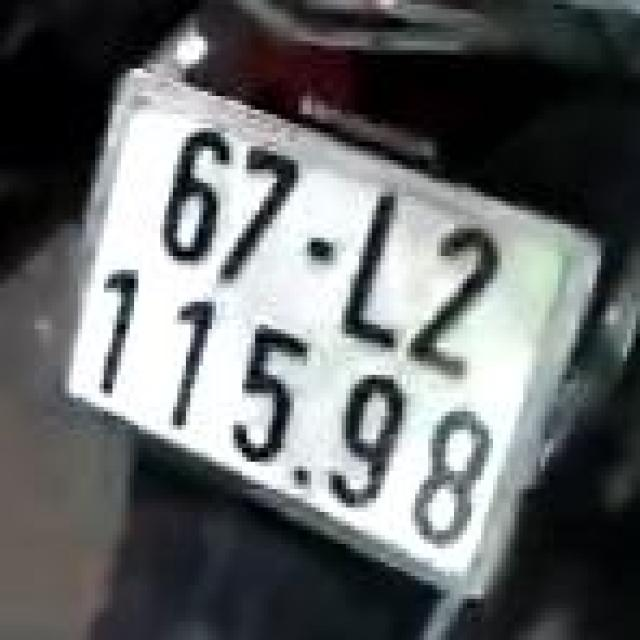1: (156, 276, 232, 444), (80, 258, 156, 411)
2: (398, 210, 517, 393)
5: (215, 307, 324, 485)
6: (154, 117, 246, 274)
7: (210, 139, 312, 298)
8: (400, 389, 509, 560)
9: (322, 357, 421, 523)
L: (332, 181, 441, 364)
